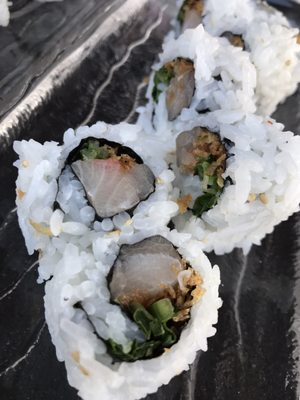sandwich: (2, 0, 300, 399)
